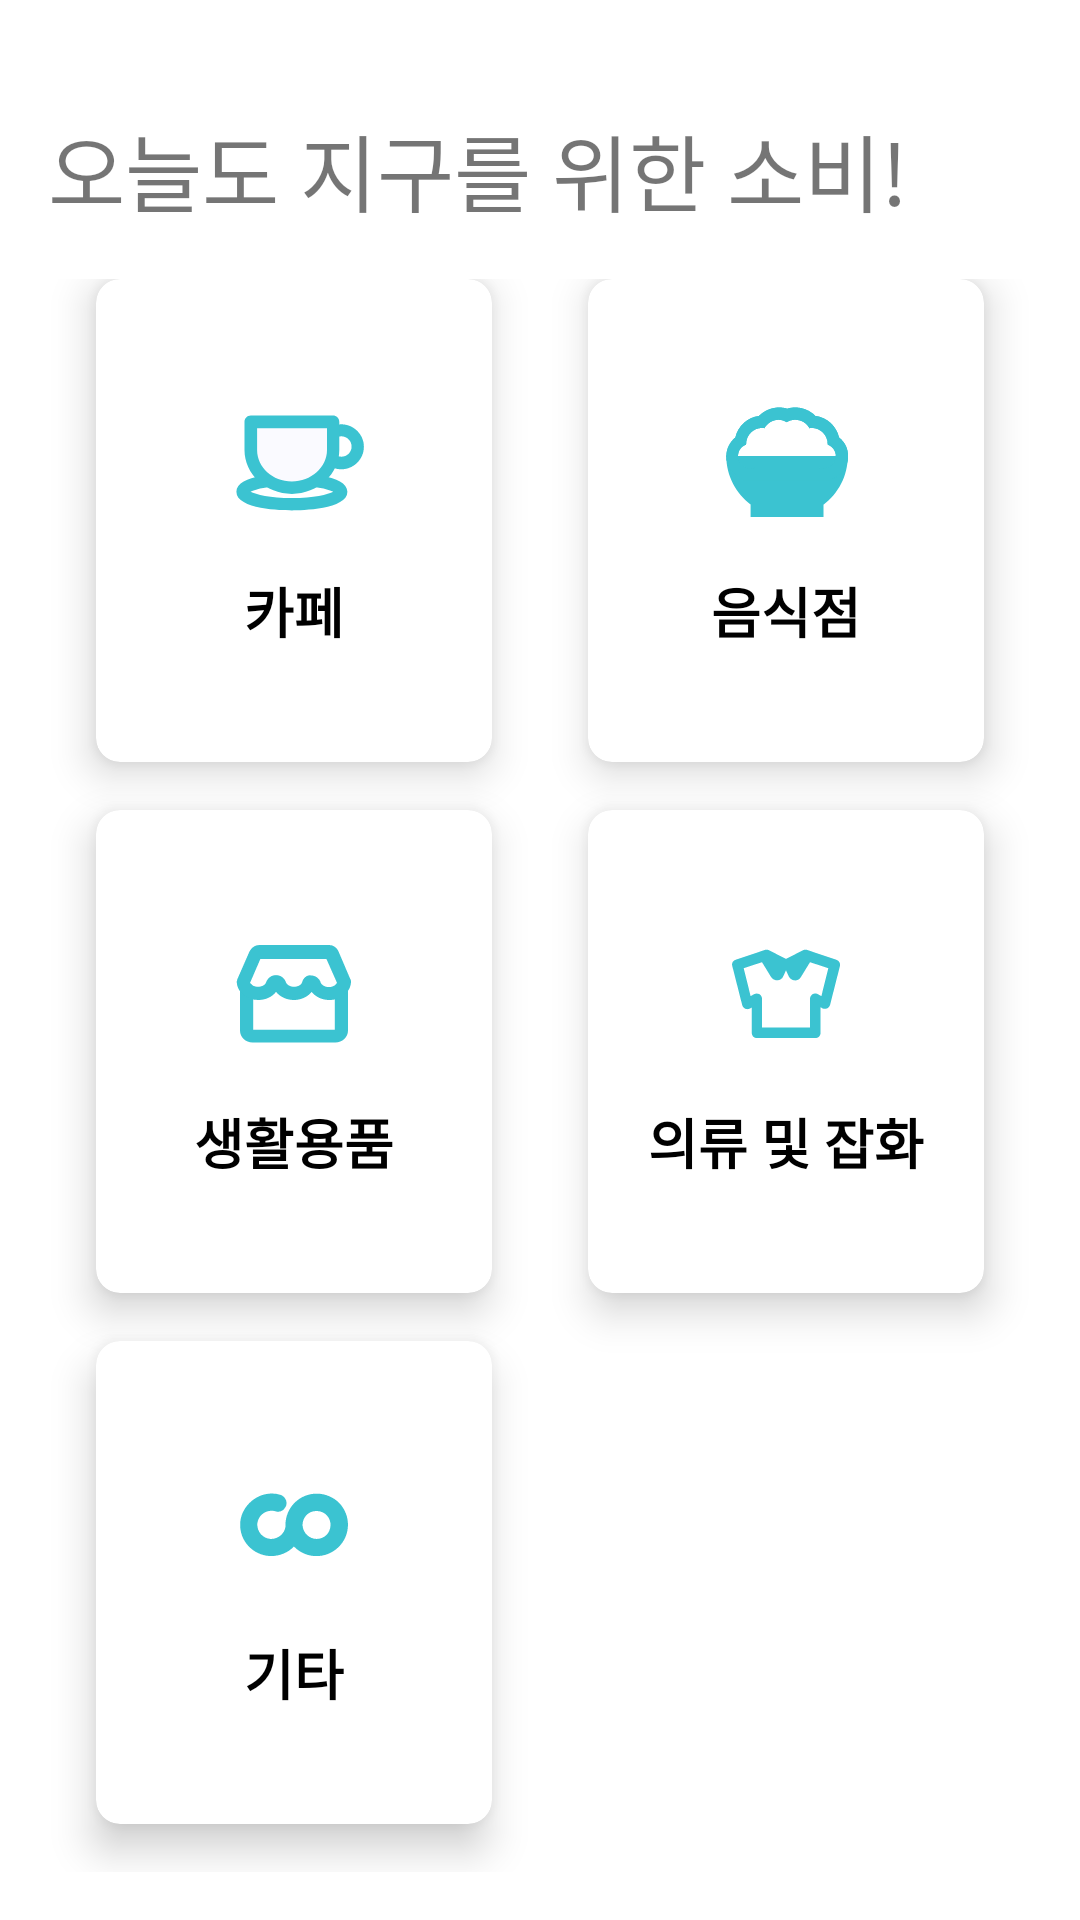

Icons on this 1080*1920 Android screen, each with its box as (x1, y1, x2, y2):
cafe grid: (236, 415, 364, 511)
cloth grid: (732, 949, 840, 1038)
food grid: (726, 407, 848, 517)
life grid: (236, 945, 351, 1043)
